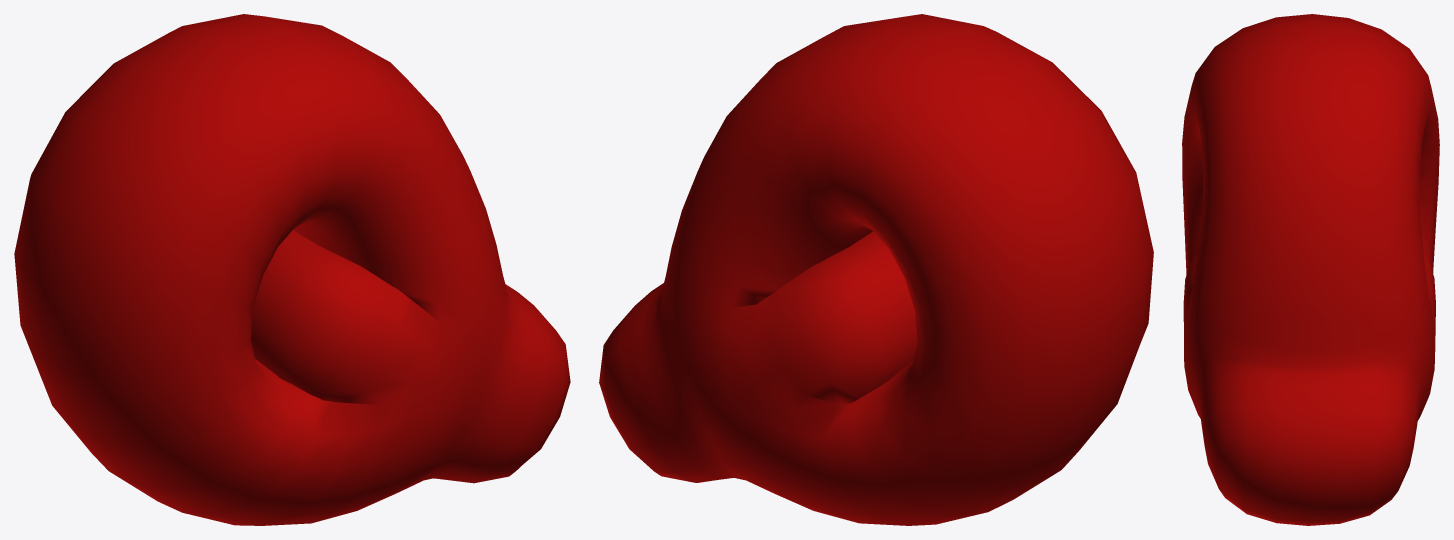
The picture shows the model from 3 angles, left to right: view 1: azimuth 30°, elevation 25°; view 2: azimuth 150°, elevation 25°; view 3: azimuth 270°, elevation 25°; orthographic projection. The views are drawn at different scales.
Parts seen in each view (by area): view 1: Object_36; view 2: Object_36; view 3: Object_36.
Part boxes in pixels (x1,y1,x2,y2): Object_36: [14, 14, 570, 525]; Object_36: [599, 14, 1153, 525]; Object_36: [1182, 14, 1439, 525].
Size of the model in its own units: 98.62 by 90.19 by 52.62.
